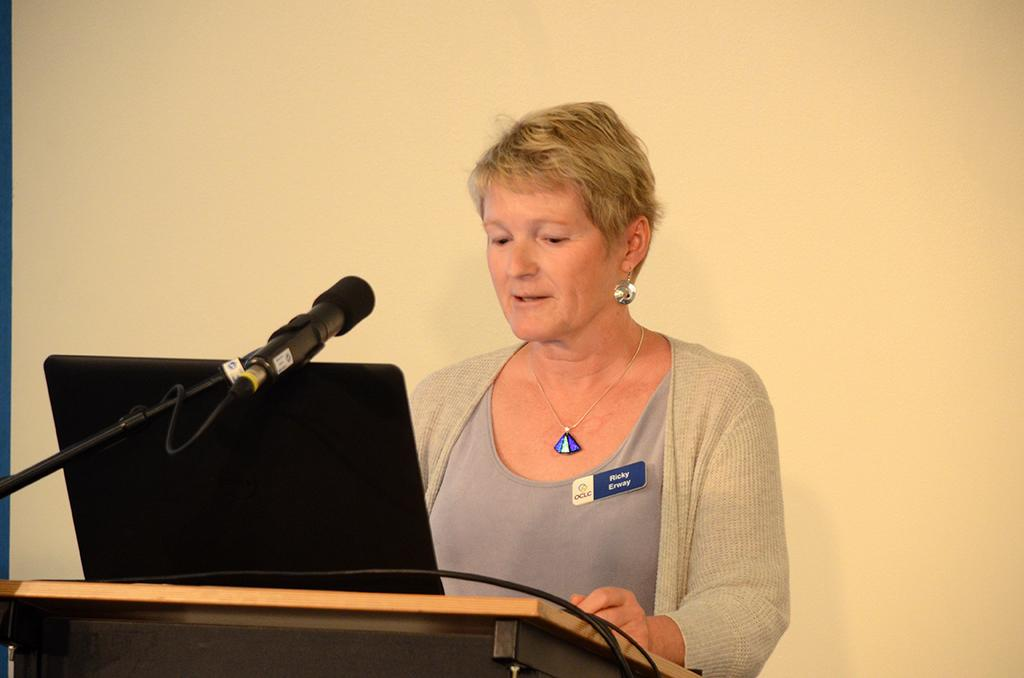Laptop: (0, 346, 519, 624)
